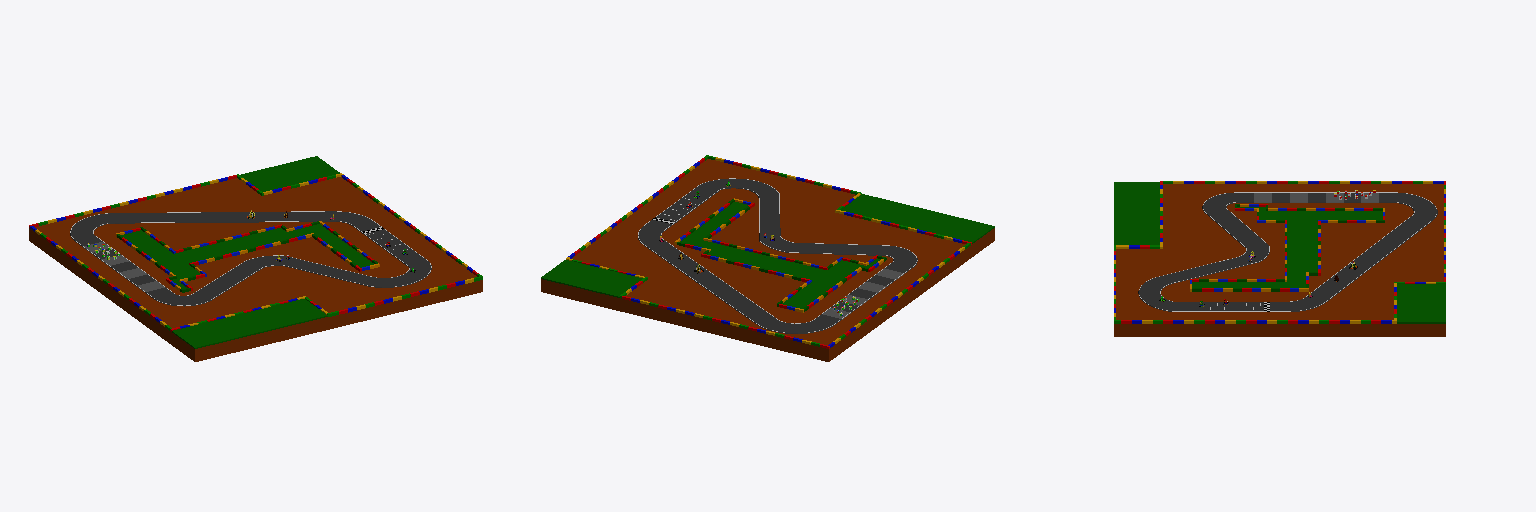
Rendered from crircuito.obj.
The picture shows the model from 3 angles: view 1: azimuth 30°, elevation 25°; view 2: azimuth 150°, elevation 25°; view 3: azimuth 270°, elevation 25°; orthographic projection.
Visible parts, largest first — view 1: Plane_Plane.002, pista_Plane, Cube.001, Cube.003, Cube.002; view 2: Plane_Plane.002, pista_Plane, Cube.001, Cube.003, Cube.002; view 3: Plane_Plane.002, pista_Plane, Cube.001, Cube.003, Cube.002.
Part boxes in pixels (bbox=[...]): Plane_Plane.002: bbox=[29, 156, 482, 361]; pista_Plane: bbox=[70, 211, 431, 306]; Cube.001: bbox=[121, 224, 373, 288]; Cube.003: bbox=[29, 173, 482, 331]; Cube.002: bbox=[116, 221, 379, 292]; Plane_Plane.002: bbox=[541, 159, 994, 361]; pista_Plane: bbox=[638, 178, 917, 333]; Cube.001: bbox=[680, 202, 880, 308]; Cube.003: bbox=[566, 155, 971, 348]; Cube.002: bbox=[674, 198, 886, 312]; Plane_Plane.002: bbox=[1114, 182, 1445, 336]; pista_Plane: bbox=[1138, 192, 1437, 311]; Cube.001: bbox=[1192, 207, 1382, 287]; Cube.003: bbox=[1114, 181, 1445, 323]; Cube.002: bbox=[1190, 204, 1384, 291].
Bounding box in the file's own units: 24.65 × 1.69 × 24.65.